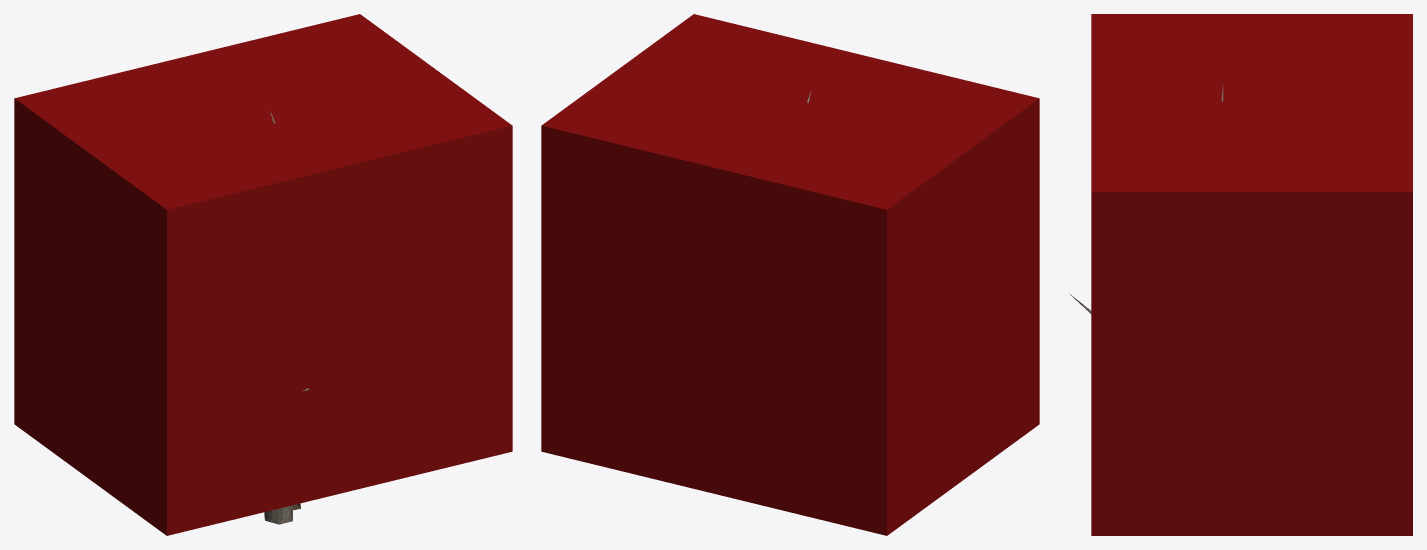
File: fallentree.DAE
The picture shows the model from 3 angles, left to right: view 1: azimuth 30°, elevation 25°; view 2: azimuth 150°, elevation 25°; view 3: azimuth 270°, elevation 25°; orthographic projection. The views are drawn at different scales.
Parts seen in each view (by area): view 1: bounds; view 2: bounds; view 3: bounds.
Boxes of the visible parts, x1,y1,x2,y2 form: bounds: (14,14,512,535); bounds: (541,14,1039,535); bounds: (1091,14,1412,535).
Bounding box in the file's own units: 24.34 × 19.94 × 27.41.
